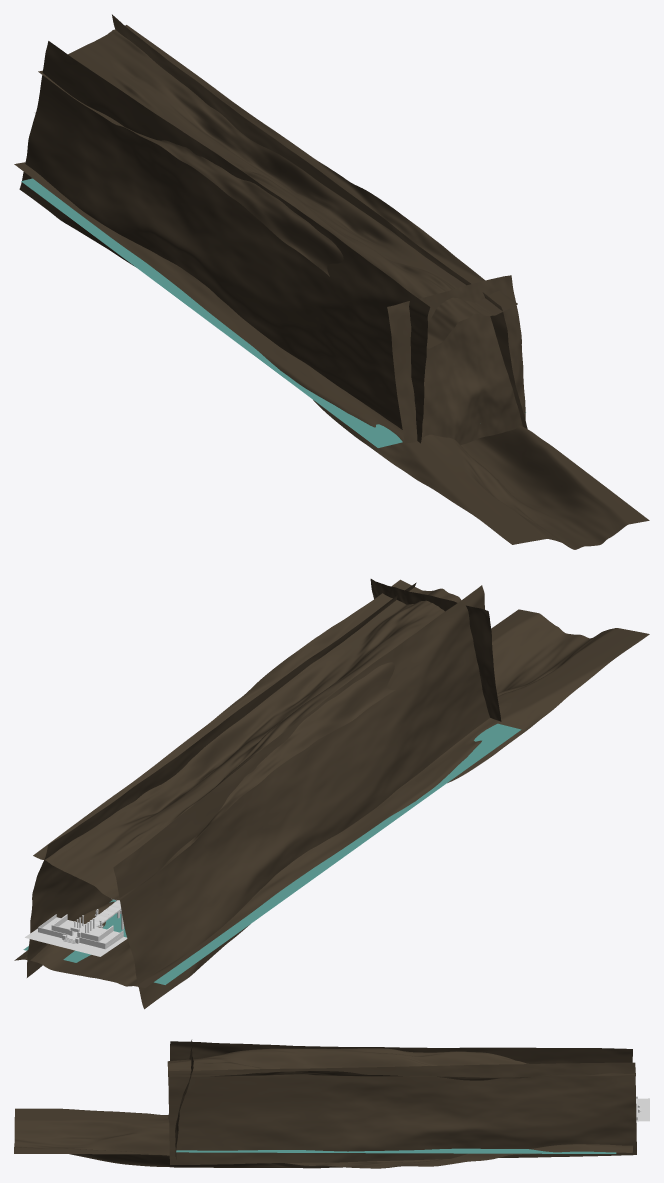
The picture shows the model from 3 angles, top to bottom: view 1: azimuth 30°, elevation 25°; view 2: azimuth 150°, elevation 25°; view 3: azimuth 270°, elevation 25°; orthographic projection. The views are drawn at different scales.
Parts seen in each view (by area): view 1: Landscape.007, Landscape.001, Landscape.004, Landscape.003, Landscape.002, Landscape_water; view 2: Landscape.007, Landscape.001, Landscape.004, Landscape.002, Landscape_water, Landscape.003, proBuild NHEL; view 3: Landscape.002, Landscape.004, Landscape.001, Landscape.007, Landscape_water, proBuild NHEL, Landscape.003.
Part boxes in pixels (box(x1,y1,x2,y2)): Landscape.007: box(19, 41, 430, 443); Landscape.001: box(38, 25, 517, 348); Landscape.004: box(14, 162, 649, 549); Landscape.003: box(387, 275, 525, 445); Landscape.002: box(112, 14, 527, 428); Landscape_water: box(21, 178, 525, 447); Landscape.007: box(113, 585, 490, 1009); Landscape.001: box(33, 579, 461, 900); Landscape.004: box(14, 609, 649, 987); Landscape.002: box(27, 582, 416, 977); Landscape_water: box(23, 723, 521, 984); Landscape.003: box(370, 579, 501, 721); proBuild NHEL: box(25, 898, 127, 956); Landscape.002: box(168, 1062, 636, 1164); Landscape.004: box(14, 1108, 632, 1168); Landscape.001: box(167, 1048, 635, 1080); Landscape.007: box(168, 1041, 632, 1118); Landscape_water: box(176, 1148, 616, 1153); proBuild NHEL: box(636, 1096, 649, 1121); Landscape.003: box(175, 1040, 193, 1159).
Bounding box in the file's own units: 18265 × 20082 × 108230.
